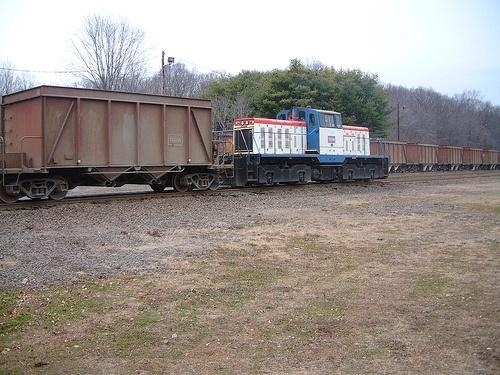train: (5, 86, 390, 202), (373, 141, 500, 175)
